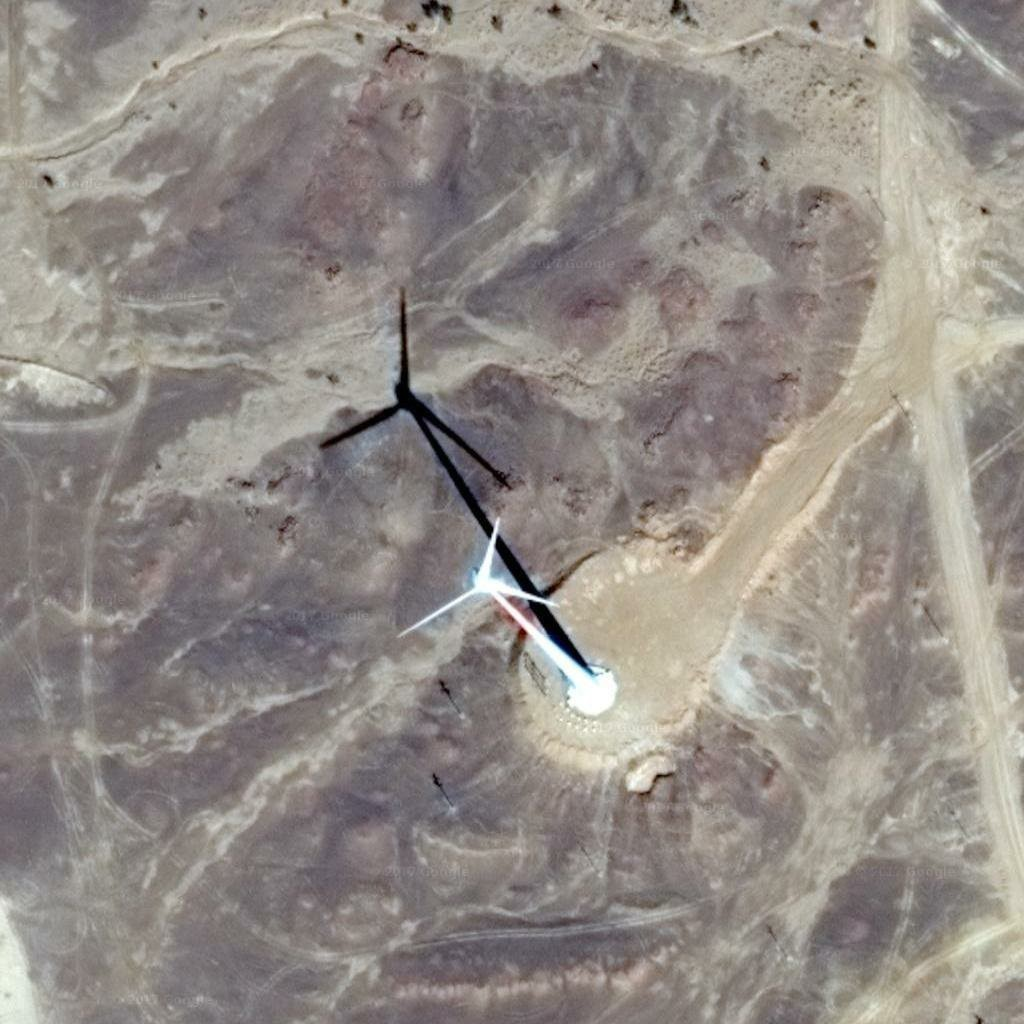Windmill: (284, 306, 595, 662)
